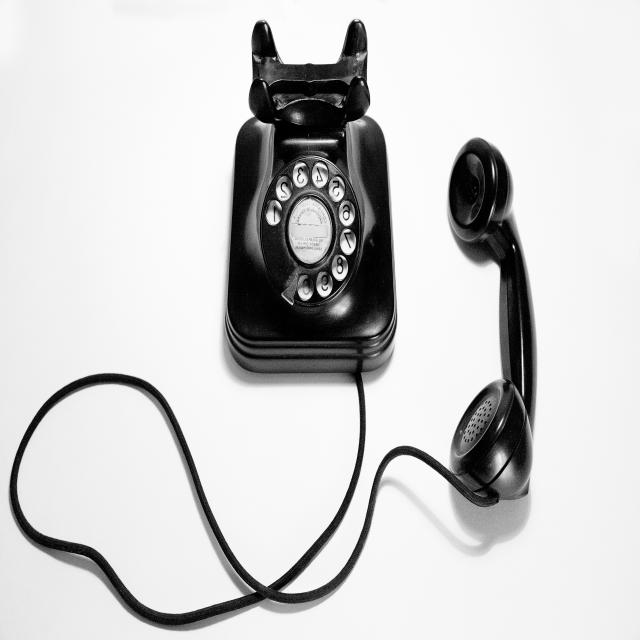Mobile: (214, 12, 545, 522)
